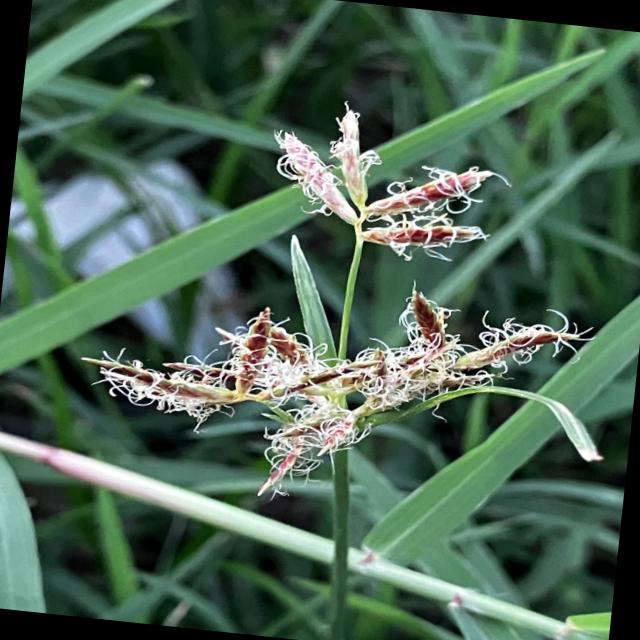cyperus: (59, 65, 627, 540)
